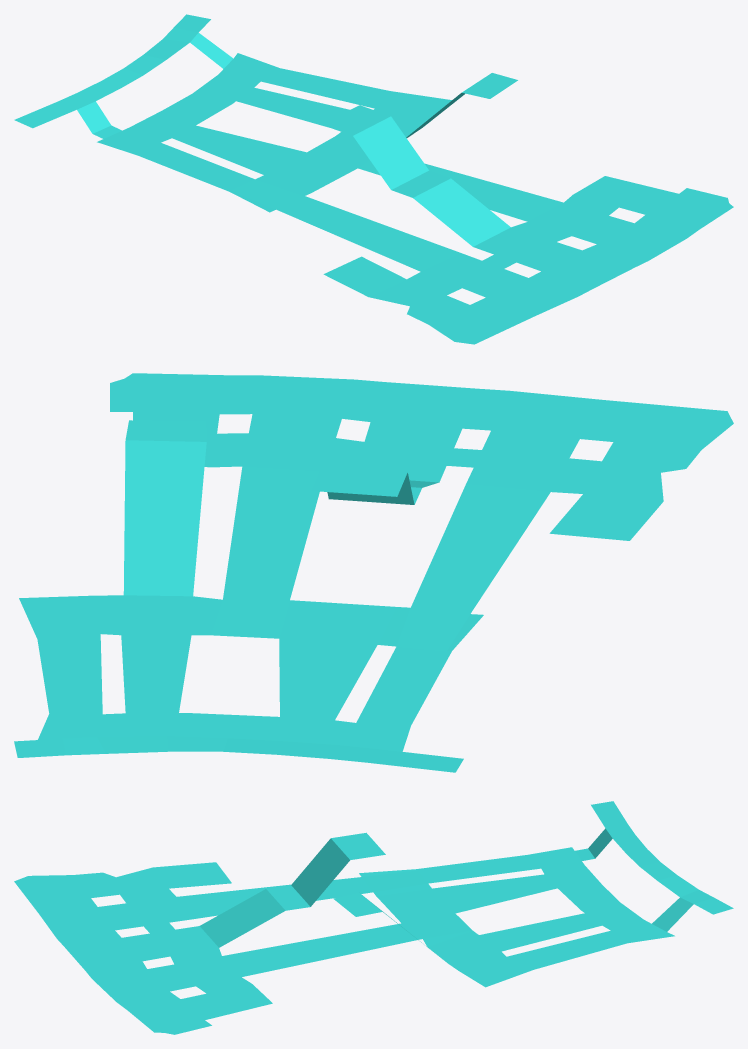
The model's file is navera1Final.glb.
3 views of the same model, one above another, from view 1: azimuth 30°, elevation 25°; view 2: azimuth 150°, elevation 25°; view 3: azimuth 270°, elevation 25° (orthographic). The views are drawn at different scales.
Visible parts, largest first — view 1: nav; view 2: nav; view 3: nav.
Boxes of the visible parts, x1=… form: nav: x1=14, y1=14, x2=733, y2=344; nav: x1=14, y1=373, x2=733, y2=772; nav: x1=14, y1=801, x2=733, y2=1034.
Size of the model in its own units: 117 by 17.2 by 166.
